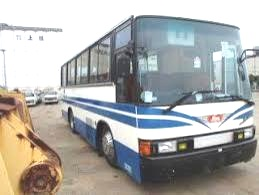bus: (57, 13, 252, 185)
